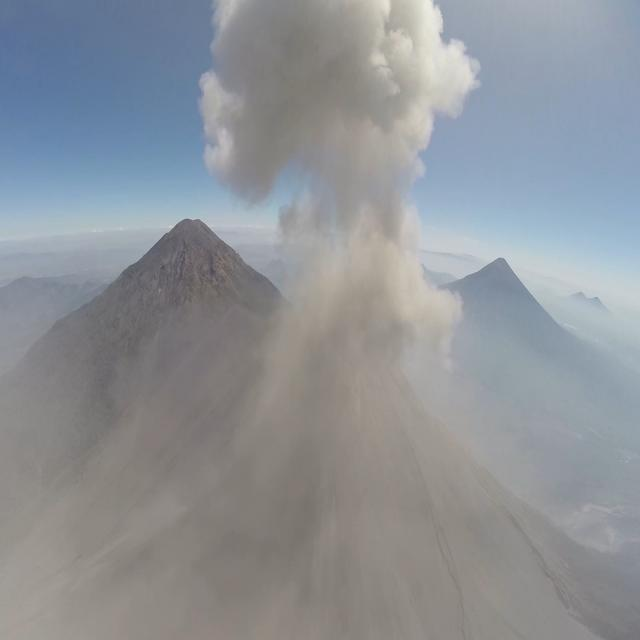Plume: (205, 2, 484, 226), (252, 235, 470, 482)
